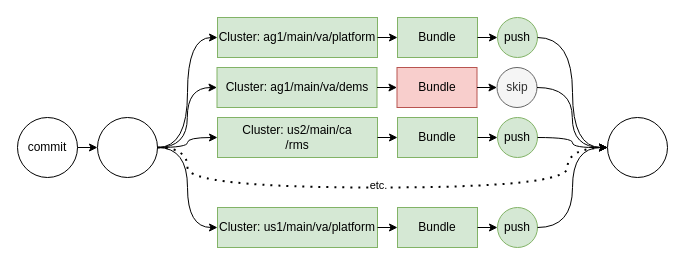
Some shapes in this 685 by 265 pixel diagram are drawn without their labels. The centre of each missing label's shape, as x and y in pixels:
"discover" goes at [127,147].
"Finish" goes at [637,147].
